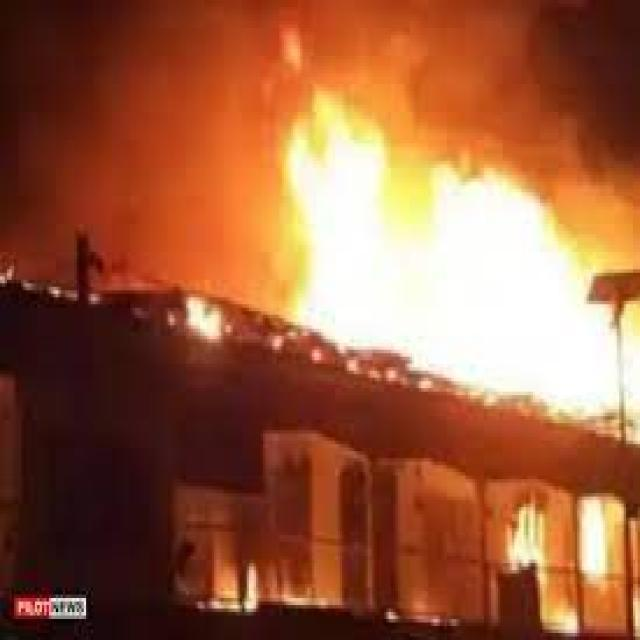Fire: (294, 138, 618, 446)
Smoke: (0, 4, 623, 251)
